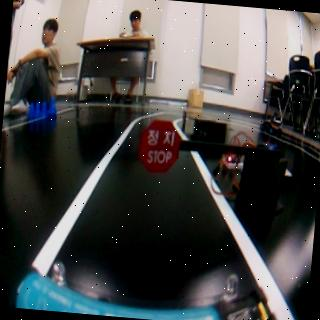stop: (137, 116, 183, 177)
